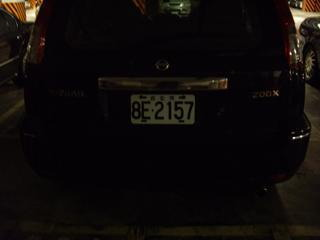plate: (128, 93, 198, 125)
